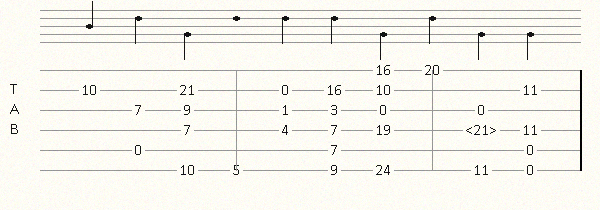0: (134, 143, 146, 157), (281, 83, 293, 97), (379, 103, 391, 117), (477, 103, 489, 117), (526, 143, 538, 157), (526, 163, 538, 177)
1: (281, 103, 293, 117)
10: (81, 83, 101, 97), (179, 163, 199, 177), (375, 83, 395, 97)
11: (473, 163, 493, 177), (522, 83, 542, 97), (522, 123, 542, 137)
16: (326, 83, 346, 97), (375, 63, 395, 77)
19: (375, 123, 395, 137)
20: (424, 63, 444, 77)
21: (179, 83, 199, 97)
24: (375, 163, 395, 177)
3: (330, 103, 342, 117)
4: (281, 123, 293, 137)
5: (232, 163, 244, 177)
7: (134, 103, 146, 117), (183, 123, 195, 137), (330, 123, 342, 137), (330, 143, 342, 157)
9: (183, 103, 195, 117), (330, 163, 342, 177)
harmonic: (465, 123, 501, 137)
